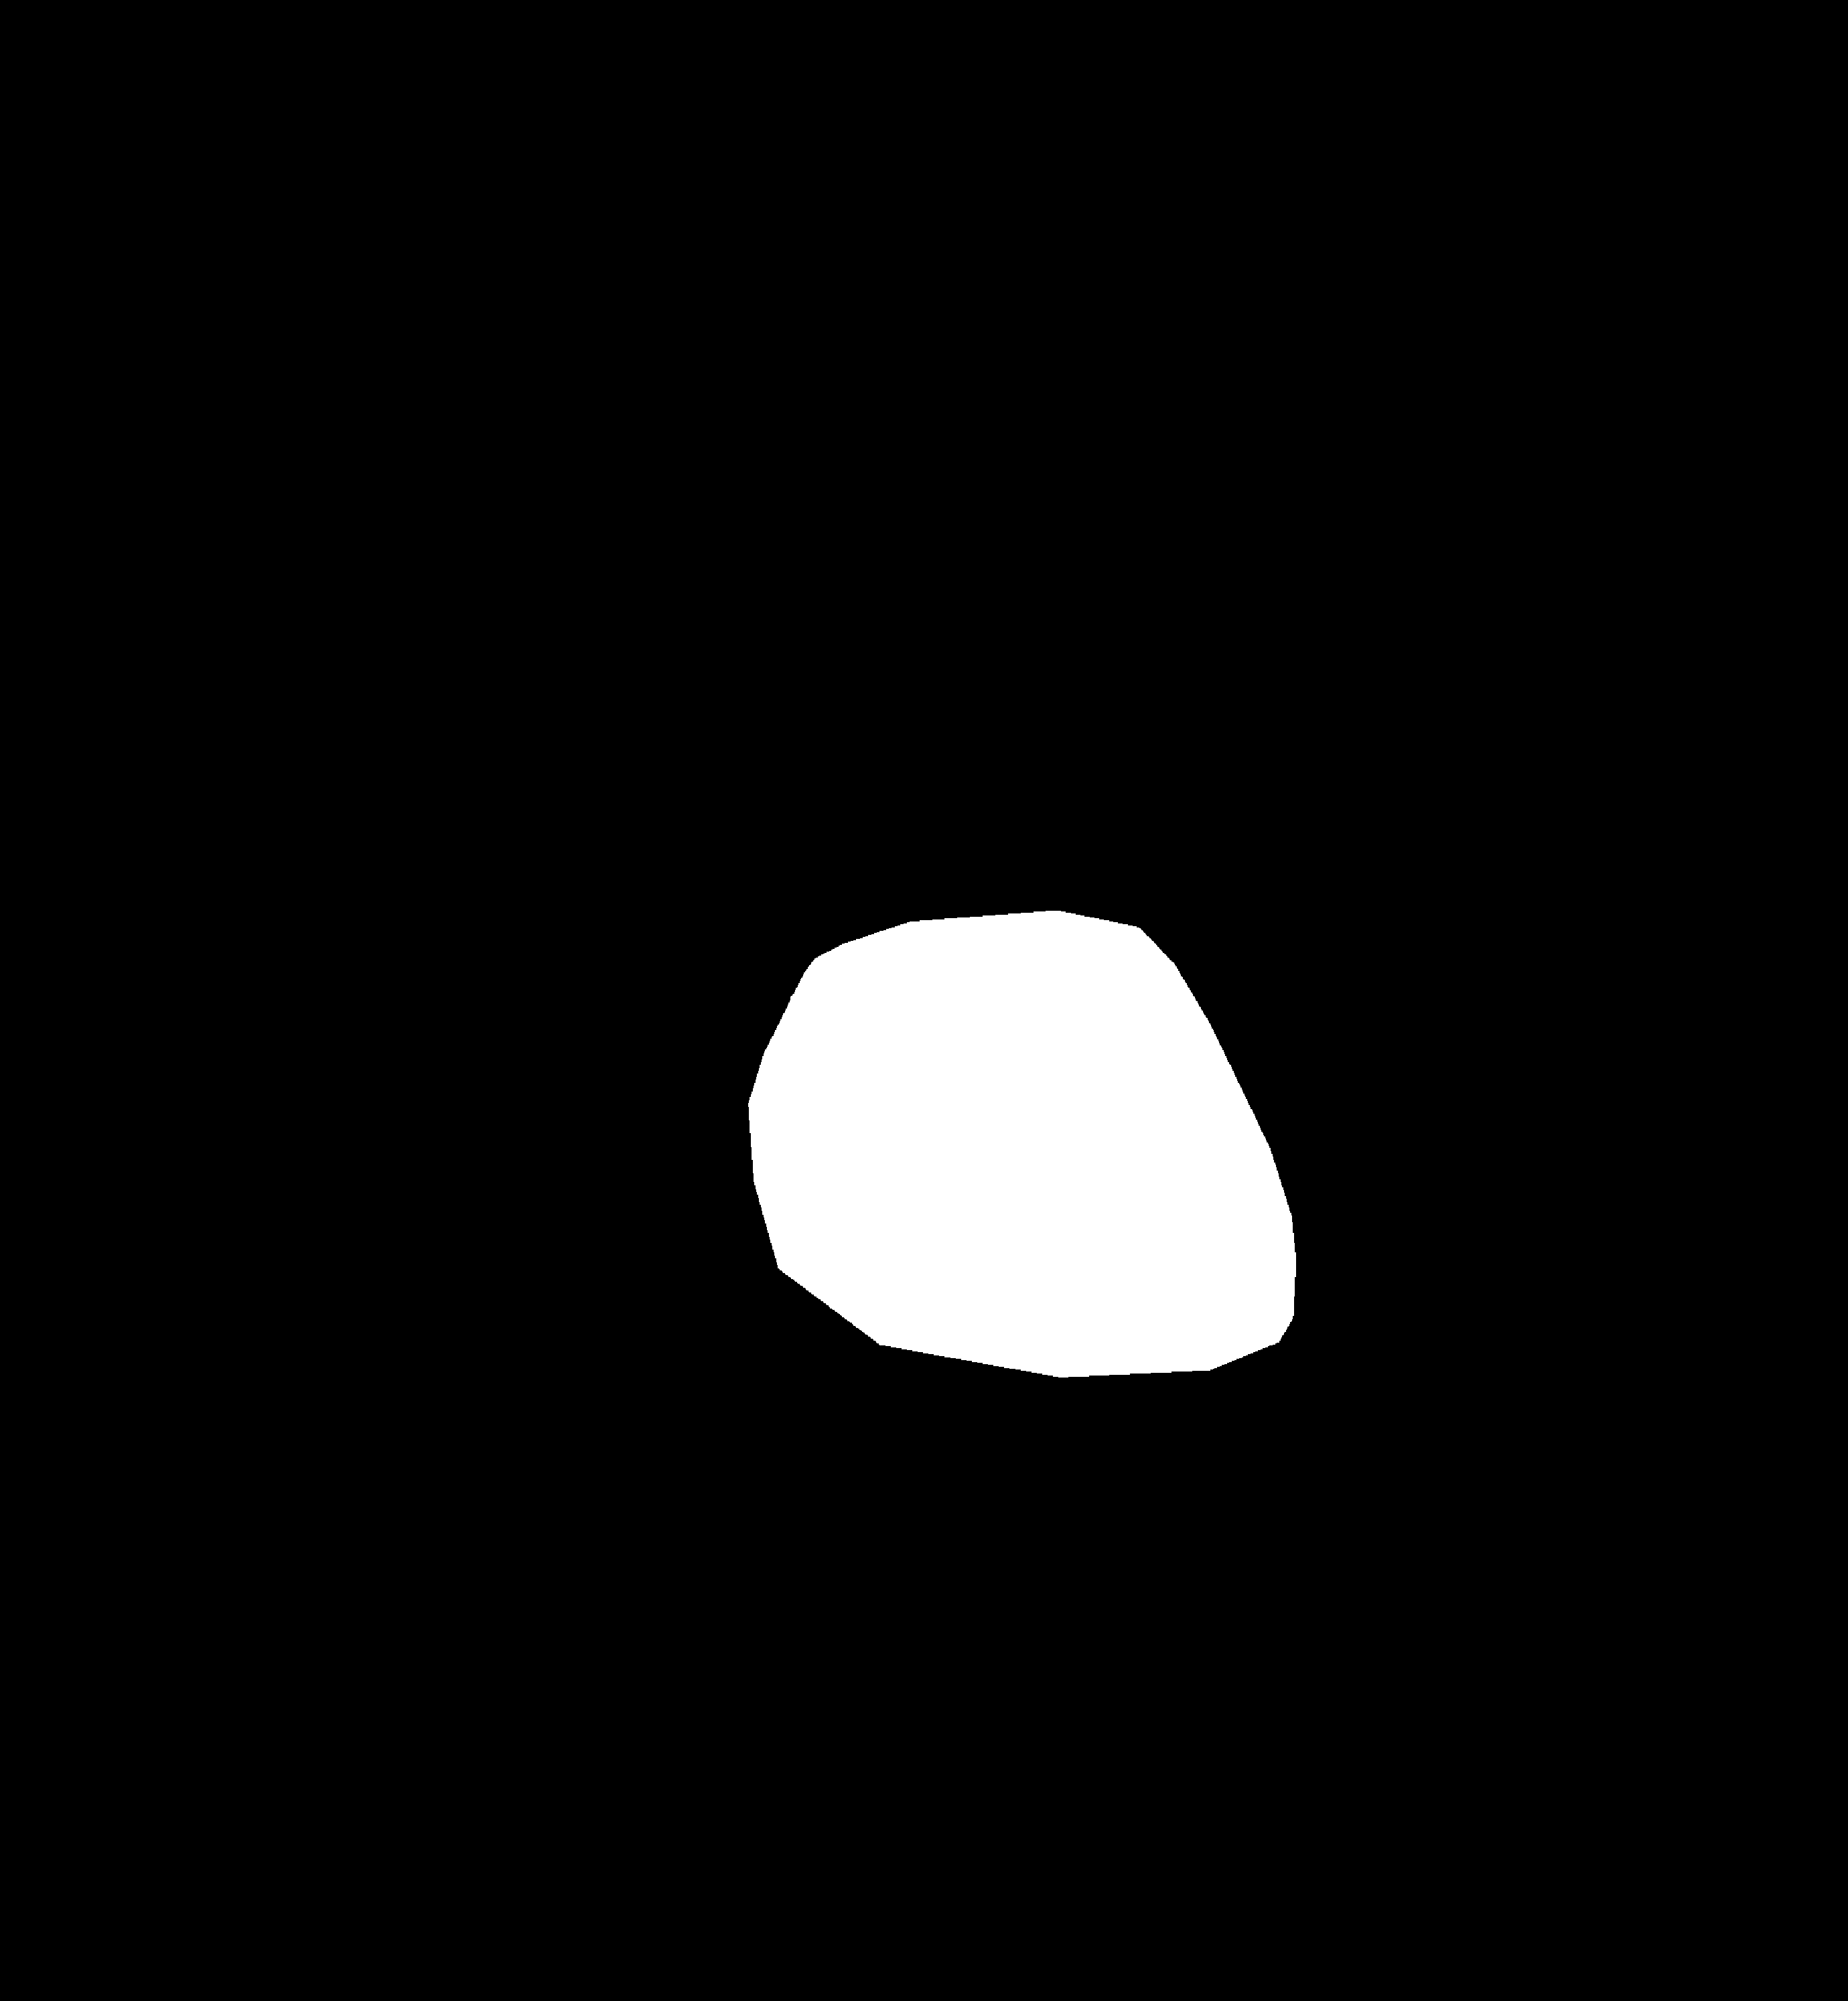heart: (746, 939, 1294, 1408)
left_lung: (295, 329, 853, 1448)
right_lung: (992, 321, 1520, 1509)
